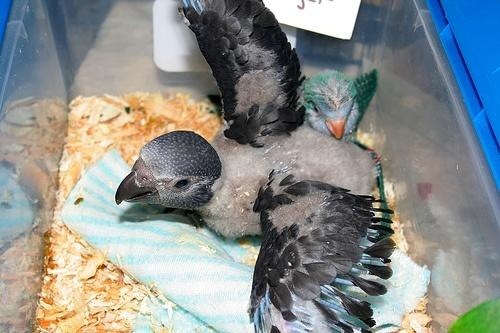bird: (115, 2, 400, 333)
